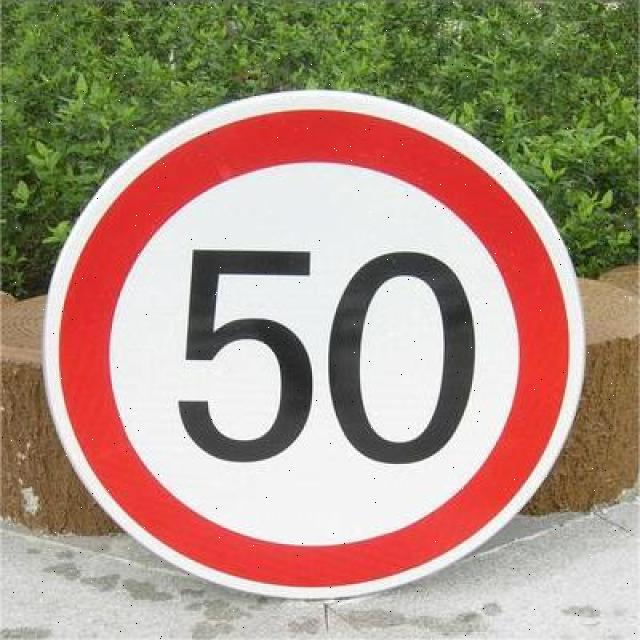speed limit 50: (39, 93, 585, 605)
